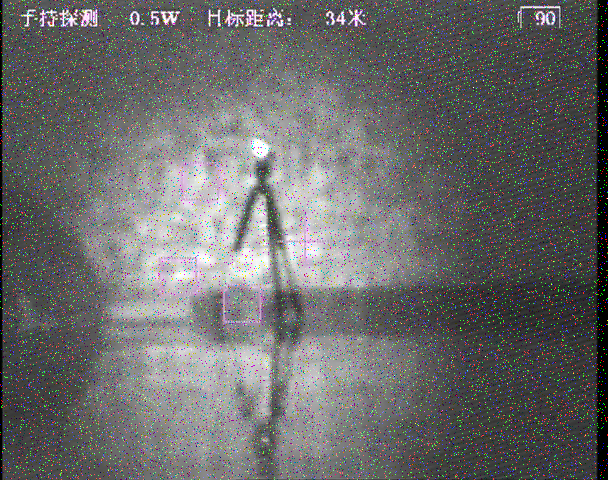my: (248, 137, 271, 160)
